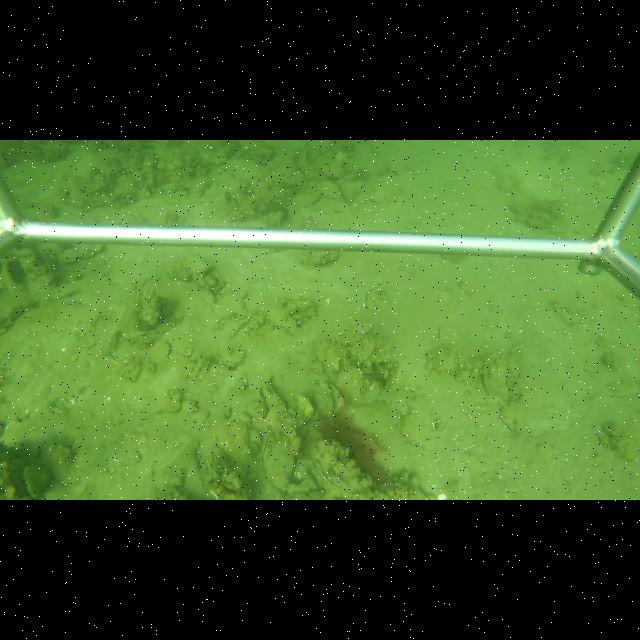Oyster-Closed: (258, 434, 296, 498), (312, 460, 363, 499), (398, 408, 436, 445), (335, 365, 365, 406), (21, 464, 52, 498), (213, 343, 247, 367), (262, 381, 287, 410), (498, 402, 517, 432), (229, 317, 252, 340), (292, 192, 323, 208), (314, 180, 341, 198), (150, 339, 172, 359), (290, 410, 303, 434), (224, 191, 240, 210), (319, 165, 342, 177), (191, 261, 211, 274)
